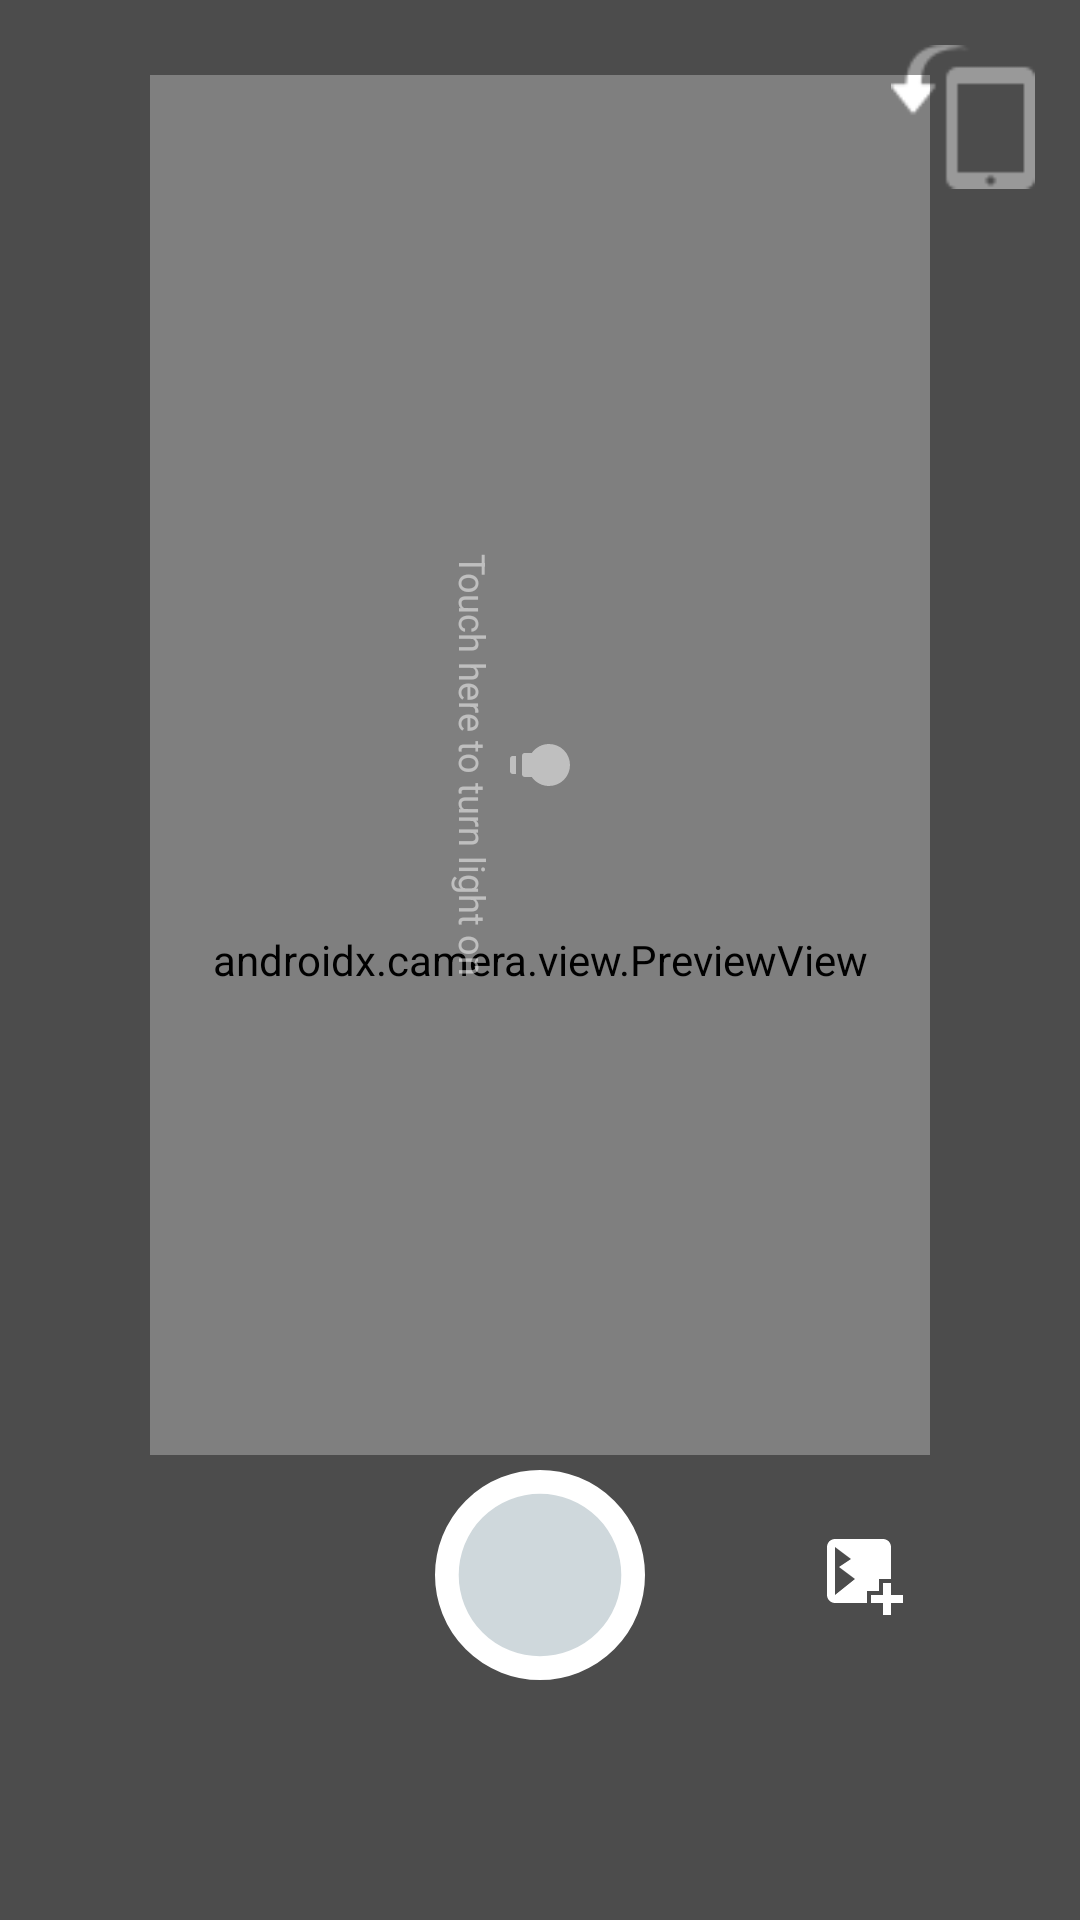

Named icons in this screenshot (1080*1920) and their bounding boxes, [x1,y1,x2,y2]:
phonerotate: [891,45,1035,189]
